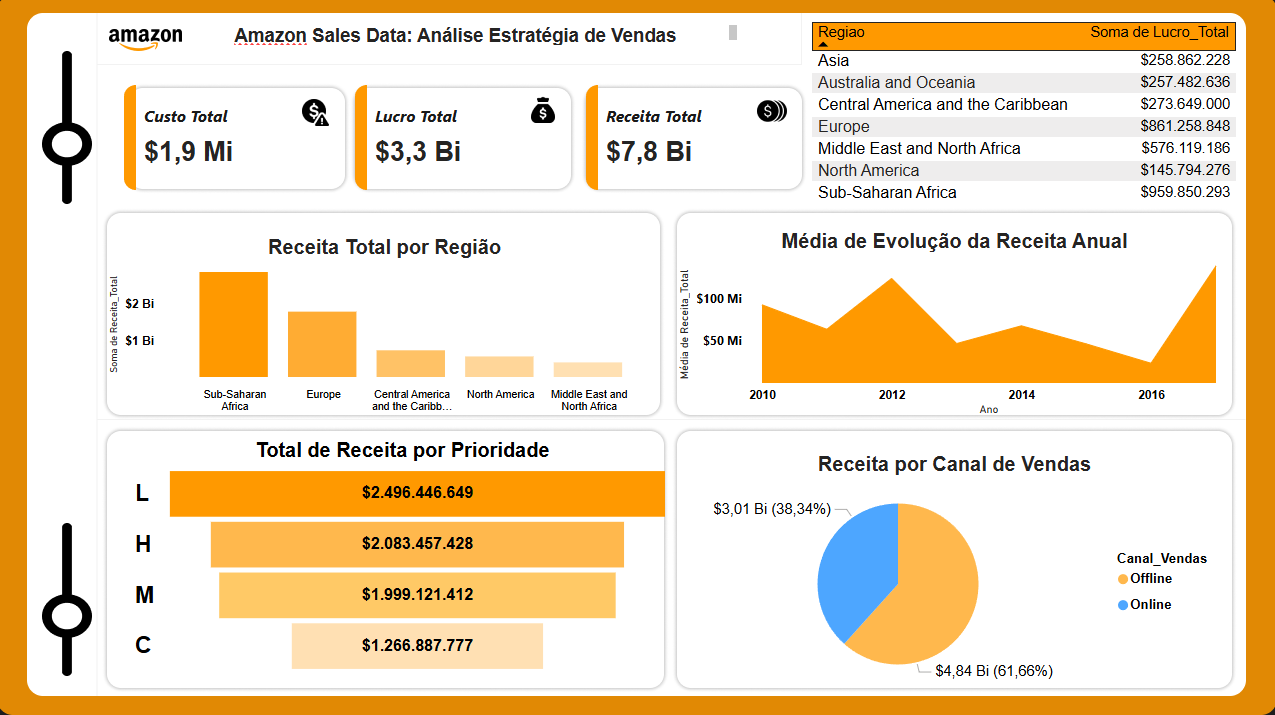

The page's visual inventory and layout, read from the dashboard file:
{"tool":"powerbi","page":{"name":"Página 1","canvas":[1280,720],"ordinal":0},"visuals":[{"type":"pieChart","title":"Receita por Canal de Vendas","fields":{"Category":["dados_tratados.Canal_Vendas"],"Y":["Sum(dados_tratados.Receita_Total)"]},"box":[677.3,436.4,560.9,260],"z":0},{"type":"columnChart","title":"Receita Total por Região","fields":{"Category":["dados_tratados.Regiao"],"Y":["Sum(dados_tratados.Receita_Total)"]},"box":[107.3,219.1,560.9,203.6],"z":1000},{"type":"lineChart","title":"Média de Evolução da Receita Anual","fields":{"Y":["Avg(dados_tratados.Receita_Total)"],"Category":["dados_tratados.Data_Envio.Variation.Hierarquia de datas.Ano"]},"box":[677.3,212.7,560.9,210],"z":2000},{"type":"cardVisual","fields":{"Data":["Sum(dados_tratados.Custo_Unitario)","Sum(dados_tratados.Lucro_Total)","Sum(dados_tratados.Receita_Total)"]},"box":[120,83.3,688.9,114.4],"z":3000},{"type":"pivotTable","fields":{"Rows":["dados_tratados.Regiao"],"Values":["Sum(dados_tratados.Lucro_Total)"]},"box":[810,20,436.4,192.7],"z":4000},{"type":"funnel","title":"Total de Receita por Prioridade","fields":{"Category":["dados_tratados.Prioridade_Pedido"],"Y":["Sum(dados_tratados.Receita_Total)"]},"box":[117.8,422.2,560,260],"z":5000},{"type":"textbox","box":[226.7,22.9,518.6,30],"z":5001}]}

Visuals, with their boxes in screenshot pixels (x1, y1, x2, y2), scaled from the page's 1280x720 canvas onto the 1275x715 screenshot:
"Receita por Canal de Vendas" pieChart: left=675, top=433, right=1233, bottom=692
"Receita Total por Região" columnChart: left=107, top=218, right=666, bottom=420
"Média de Evolução da Receita Anual" lineChart: left=675, top=211, right=1233, bottom=420
cardVisual - Sum(dados_tratados.Custo_Unitario) x Sum(dados_tratados.Lucro_Total): left=120, top=83, right=806, bottom=196
pivotTable - dados_tratados.Regiao x Sum(dados_tratados.Lucro_Total): left=807, top=20, right=1242, bottom=211
"Total de Receita por Prioridade" funnel: left=117, top=419, right=675, bottom=677
textbox: left=226, top=23, right=742, bottom=53
